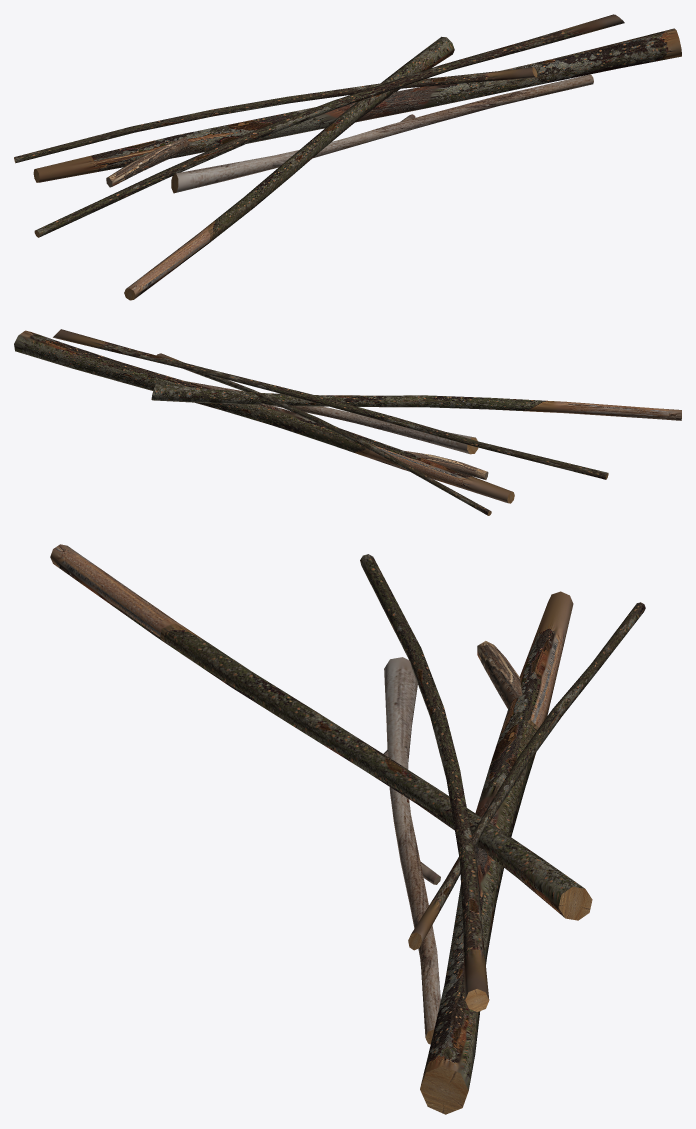
File: village_wood_stick_01.fbx
3 renders of one model, top to bottom at view 1: azimuth 30°, elevation 25°; view 2: azimuth 150°, elevation 25°; view 3: azimuth 270°, elevation 25°, orthographic. The views are drawn at different scales.
Visible parts, largest first — view 1: village_wood_stick_01; view 2: village_wood_stick_01; view 3: village_wood_stick_01.
Part boxes in pixels (x1,y1,x2,y2): village_wood_stick_01: (14,14,681,300); village_wood_stick_01: (14,329,681,515); village_wood_stick_01: (50,544,645,1114).
Size of the model in its own units: 317 by 23.54 by 144.
